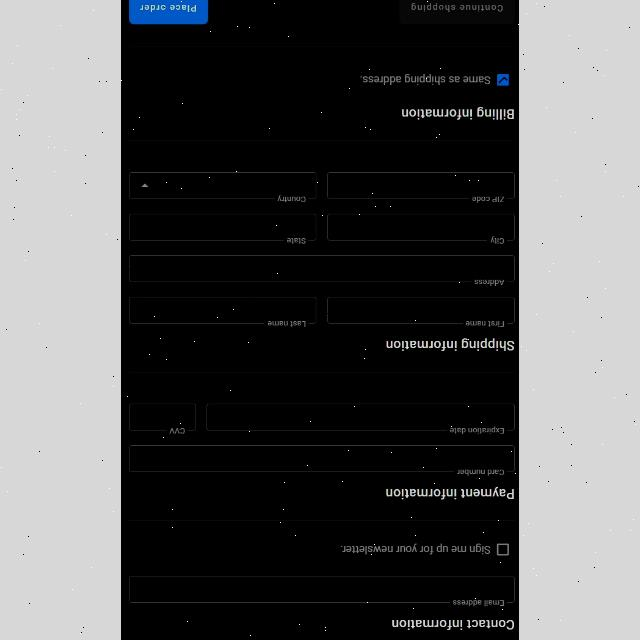QLabel: (338, 544, 492, 556), (385, 338, 515, 352), (391, 617, 517, 631), (401, 107, 517, 121), (358, 74, 492, 86), (384, 488, 516, 500), (410, 1, 504, 12), (140, 3, 197, 13)
VBtn: (398, 0, 516, 26), (129, 0, 209, 26)
VCheckbox: (496, 542, 509, 556), (497, 73, 509, 87)
VCombobox: (126, 170, 318, 202)
VDivider: (130, 368, 518, 376), (128, 138, 516, 144), (127, 518, 517, 522), (130, 44, 514, 48)
VTextField: (128, 574, 516, 608), (128, 252, 516, 286), (128, 444, 516, 476), (205, 402, 517, 433), (326, 294, 516, 328), (326, 211, 516, 245), (327, 170, 517, 203), (126, 296, 318, 328), (127, 212, 319, 244), (126, 402, 198, 434)
